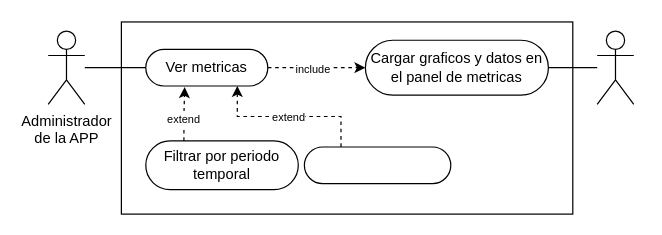
Some shapes in this 662 by 235 pixel diagram are drawn without their labels. Each missing label, with the centre of its shape:
Descargar reportes: point 377,165
Sistema: point 615,67
